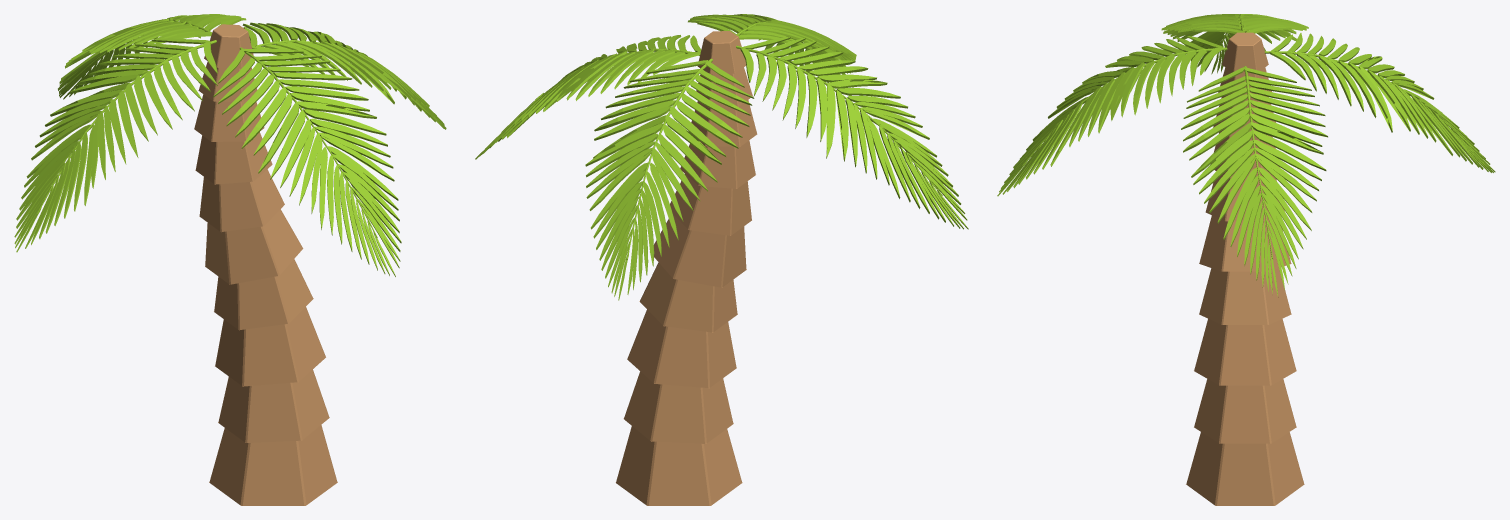
File: PALMEIRA #2.fbx
3 renders of one model, left to right at view 1: azimuth 30°, elevation 25°; view 2: azimuth 150°, elevation 25°; view 3: azimuth 270°, elevation 25°, orthographic. The views are drawn at different scales.
Visible parts, largest first — view 1: Folha.005, Folha.003, Tronco.001, Tronco.003, Tronco.002, Tronco.005, Folha.001, Tronco.004, Folha.002, Tronco.006, Tronco.007, Tronco.008 (+2 smaller); view 2: Folha.002, Folha.003, Tronco.001, Tronco.003, Tronco.002, Folha.001, Tronco.005, Tronco.004, Tronco.006, Folha.005, Tronco.007, Tronco.010 (+2 smaller); view 3: Folha.001, Folha.005, Folha.002, Tronco.001, Tronco.003, Tronco.002, Tronco.004, Folha.003, Tronco.005, Tronco.010, Tronco.006.
Part boxes in pixels (x1,y1,x2,y2): Folha.005: [213, 47, 401, 276]; Folha.003: [14, 38, 217, 252]; Tronco.001: [209, 425, 337, 505]; Tronco.003: [215, 307, 325, 386]; Tronco.002: [218, 369, 329, 442]; Tronco.005: [205, 209, 303, 284]; Folha.001: [242, 22, 446, 129]; Tronco.004: [214, 259, 313, 330]; Folha.002: [58, 14, 246, 99]; Tronco.006: [199, 169, 284, 231]; Tronco.007: [195, 132, 272, 184]; Tronco.008: [194, 94, 264, 141]; Folha.002: [585, 58, 754, 300]; Folha.003: [736, 37, 968, 229]; Tronco.001: [615, 426, 742, 505]; Tronco.003: [627, 309, 736, 388]; Tronco.002: [623, 371, 733, 443]; Folha.001: [475, 35, 701, 159]; Tronco.005: [654, 214, 746, 287]; Tronco.004: [639, 262, 737, 332]; Tronco.006: [670, 174, 751, 235]; Folha.005: [688, 14, 856, 85]; Tronco.007: [680, 140, 755, 188]; Tronco.010: [697, 31, 746, 74]; Folha.001: [1181, 66, 1327, 297]; Folha.005: [997, 36, 1227, 196]; Folha.002: [1264, 33, 1495, 172]; Tronco.001: [1186, 432, 1304, 505]; Tronco.003: [1194, 318, 1296, 385]; Tronco.002: [1194, 379, 1296, 443]; Tronco.004: [1199, 268, 1291, 324]; Folha.003: [1161, 14, 1308, 74]; Tronco.005: [1199, 215, 1291, 271]; Tronco.010: [1222, 32, 1268, 73]; Tronco.006: [1205, 173, 1284, 221].
Size of the model in its own units: 955 by 910 by 963.
